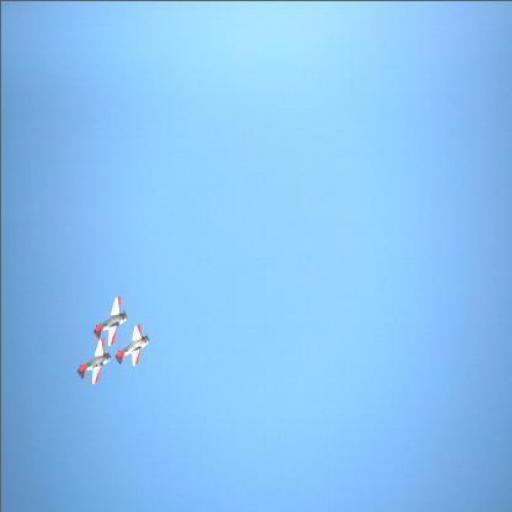aircraft: (113, 316, 155, 376), (72, 341, 114, 395), (89, 294, 129, 346)
